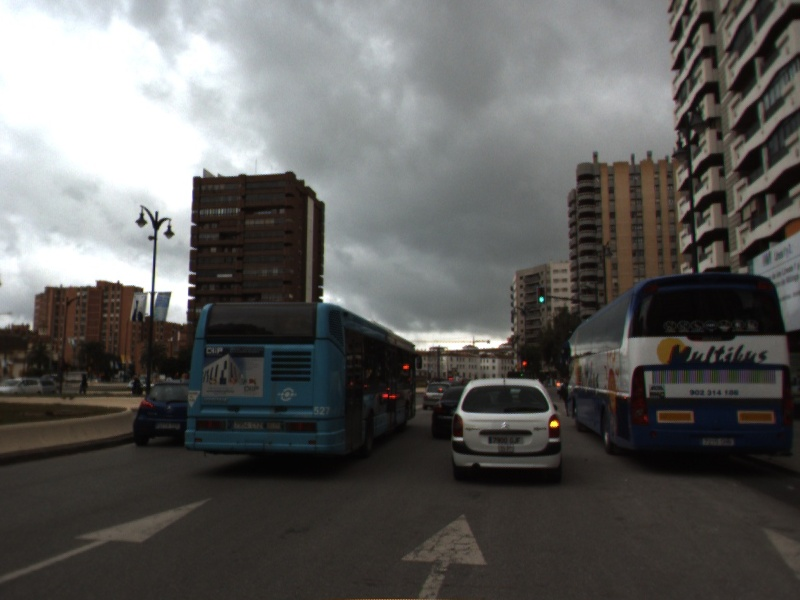STRAIGHT: (1, 494, 216, 585), (396, 510, 491, 600)
